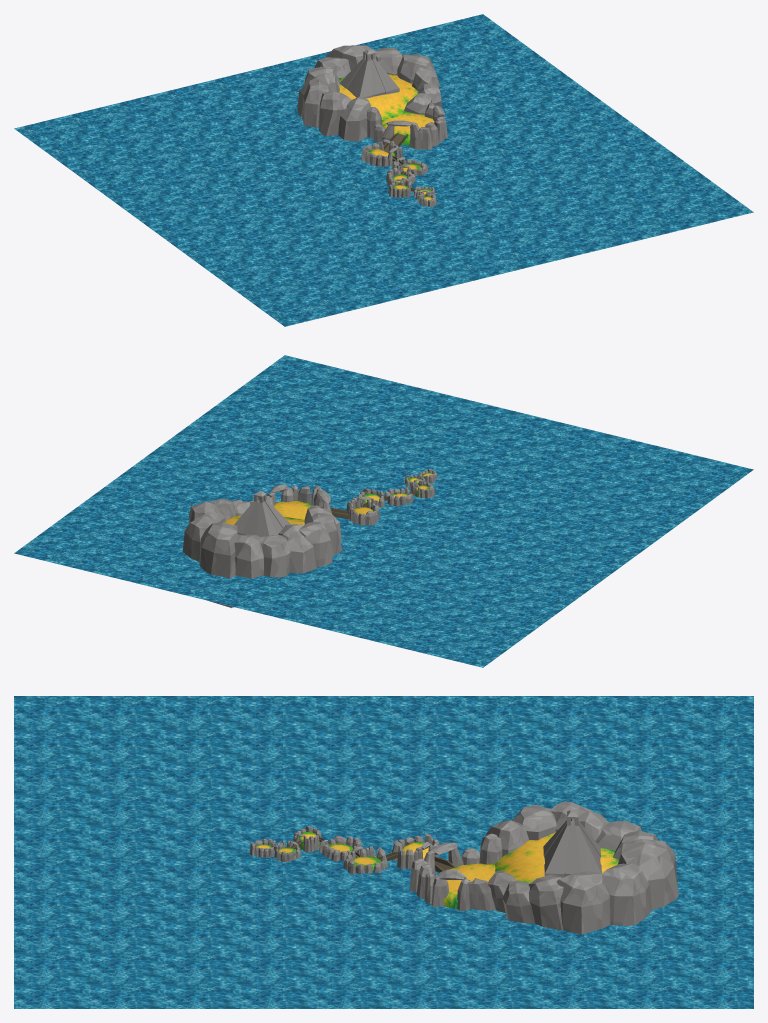
The model's file is mappy.fbx.
3 renders of one model, top to bottom at view 1: azimuth 30°, elevation 25°; view 2: azimuth 150°, elevation 25°; view 3: azimuth 270°, elevation 25°, orthographic. The views are drawn at different scales.
Visible parts, largest first — view 1: water, Boss island, Combat island 5; view 2: water, Boss island, Combat island 5; view 3: water, Boss island, Combat island 5, Combat island 4, Combat island 3, Combat island 2.
Part boxes in pixels (x1,y1,x2,y2): water: (14, 14, 753, 326); Boss island: (297, 45, 447, 149); Combat island 5: (361, 133, 408, 166); water: (14, 355, 753, 667); Boss island: (182, 484, 342, 607); Combat island 5: (320, 496, 379, 525); water: (14, 696, 753, 1008); Boss island: (409, 801, 678, 934); Combat island 5: (392, 833, 455, 872); Combat island 4: (343, 846, 397, 874); Combat island 3: (319, 836, 362, 861); Combat island 2: (293, 826, 330, 852).
Bounding box in the file's own units: 193248 × 34803 × 193248.
Materials: 4 (3 with a texture image).
